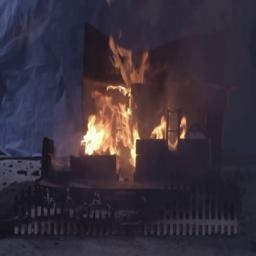fire: (76, 37, 171, 167)
